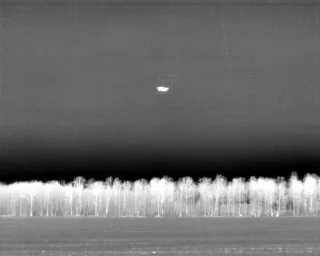DRONE: (153, 82, 173, 97)
